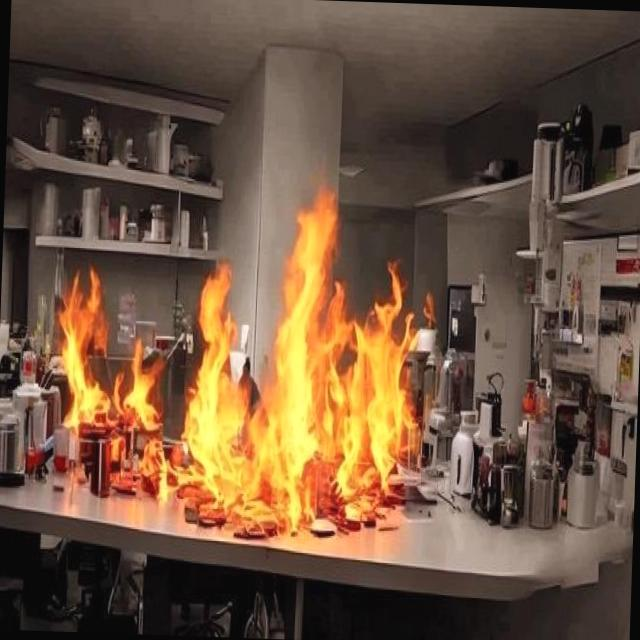fire: (52, 210, 434, 569)
